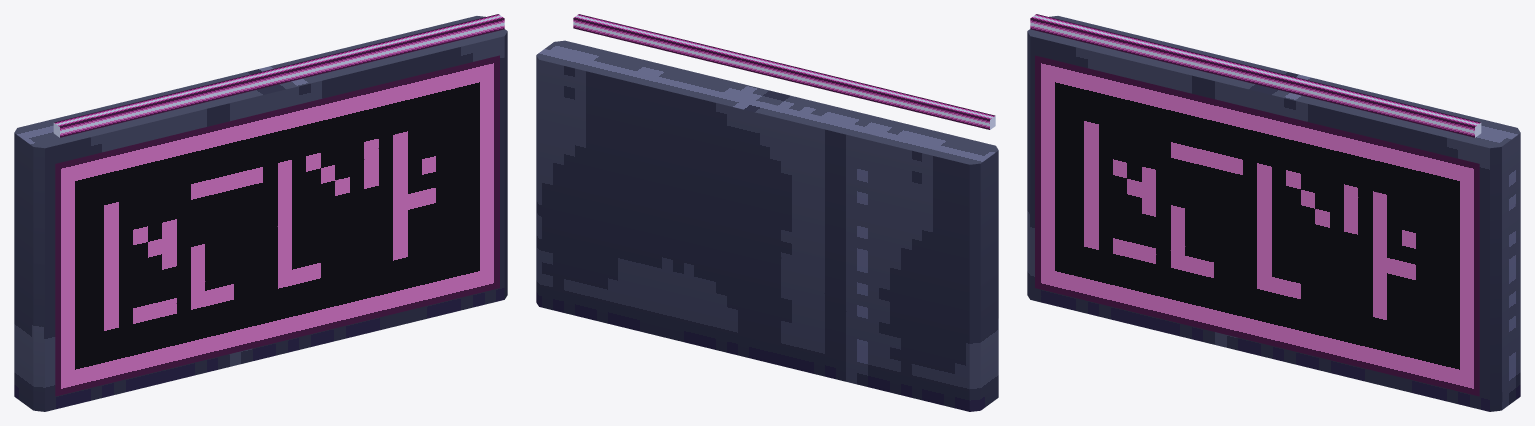
File: cysign.frame__magenta.glb
The picture shows the model from 3 angles, left to right: view 1: azimuth 30°, elevation 25°; view 2: azimuth 150°, elevation 25°; view 3: azimuth 330°, elevation 25°; orthographic projection. The views are drawn at different scales.
Visible parts, largest first — view 1: kit_card_face, kit_box, kit_neon; view 2: kit_box, kit_neon; view 3: kit_card_face, kit_box, kit_neon.
Part boxes in pixels (x1,y1,x2,y2): kit_card_face: (55,55,499,396); kit_box: (14,16,507,411); kit_neon: (53,14,504,137); kit_box: (536,40,998,411); kit_neon: (573,14,995,129); kit_card_face: (1035,55,1479,396); kit_box: (1027,16,1520,411); kit_neon: (1030,14,1481,137).
Bounding box in the file's own units: 2.56 × 1.49 × 0.3283.
Materials: 3 (3 with a texture image).
